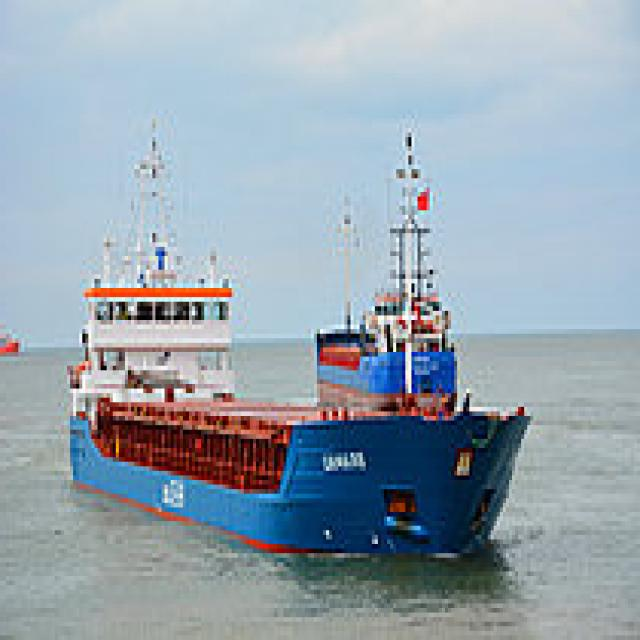Cargo: (70, 105, 543, 558)
